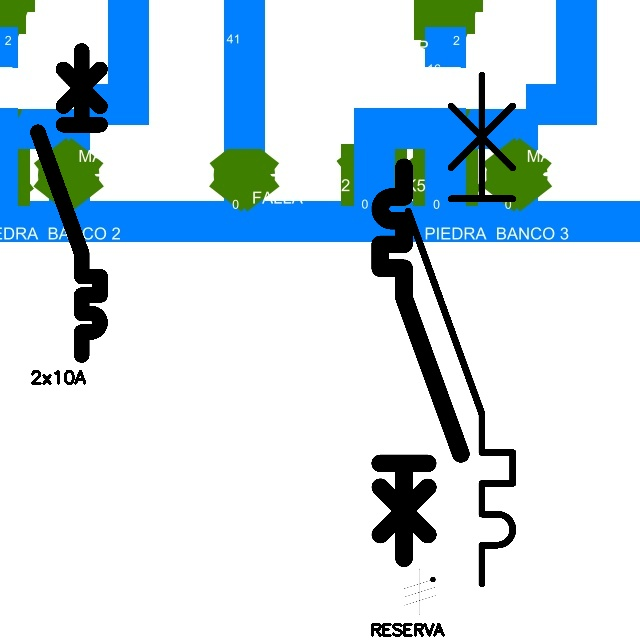interruptor_termomagnetico: (395, 62, 526, 597), (370, 157, 470, 568), (30, 43, 108, 363)
